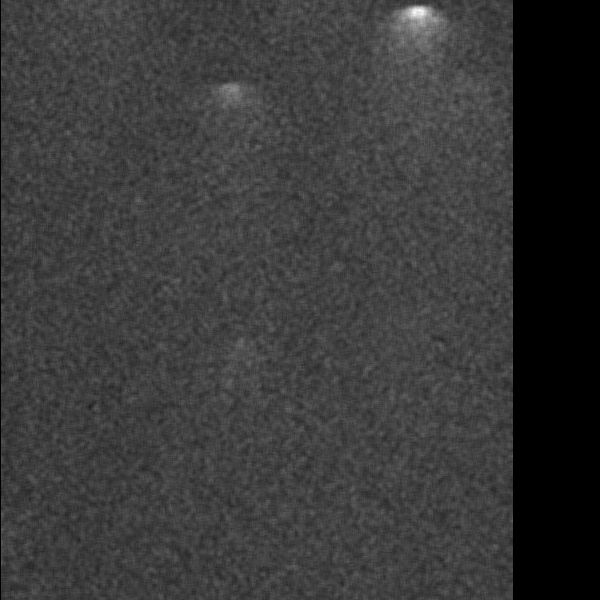spark: (311, 26, 356, 146), (300, 283, 364, 366), (181, 511, 207, 583), (118, 205, 150, 254), (92, 67, 112, 109), (397, 165, 421, 193)
